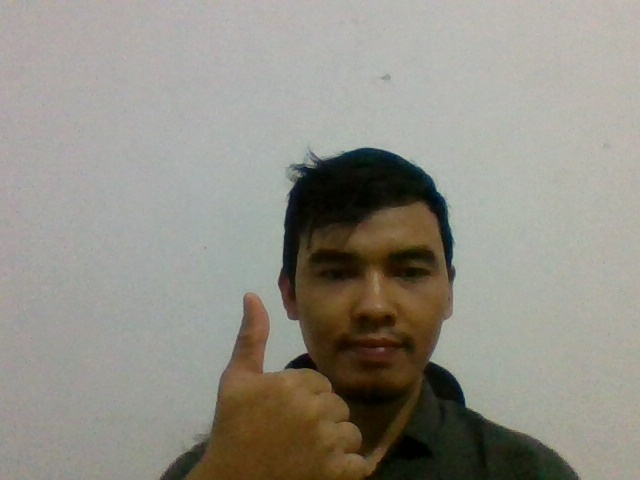hello: (200, 289, 378, 480)
